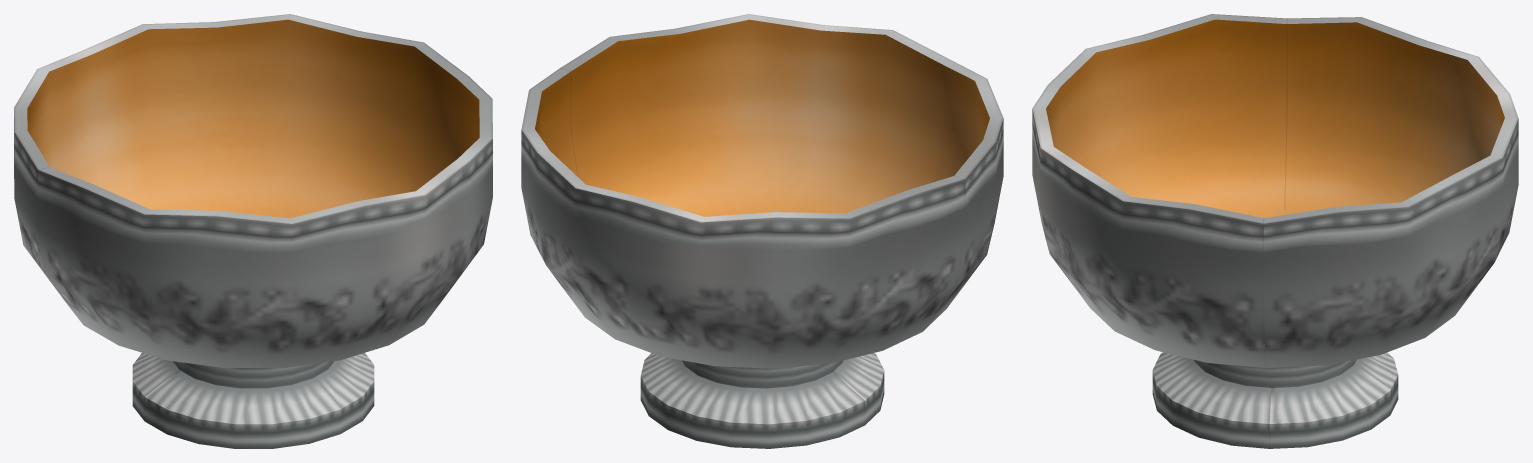
File: TianZhuJiaoTang_01_yinsewan_01.FBX
3 renders of one model, left to right at view 1: azimuth 30°, elevation 25°; view 2: azimuth 150°, elevation 25°; view 3: azimuth 270°, elevation 25°, orthographic.
Visible parts, largest first — view 1: TianZhuJiaoTang_01_yinsewan_01; view 2: TianZhuJiaoTang_01_yinsewan_01; view 3: TianZhuJiaoTang_01_yinsewan_01.
Boxes of the visible parts, x1,y1,x2,y2 form: TianZhuJiaoTang_01_yinsewan_01: (14,14,492,448); TianZhuJiaoTang_01_yinsewan_01: (521,14,1003,448); TianZhuJiaoTang_01_yinsewan_01: (1032,14,1518,448).
Bounding box in the file's own units: 122 × 80.26 × 122.
